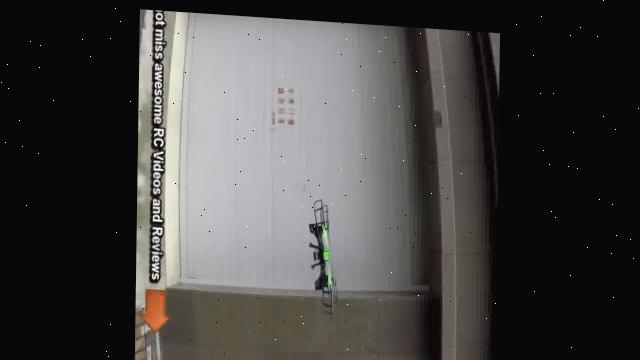drone: (306, 188, 341, 310)
